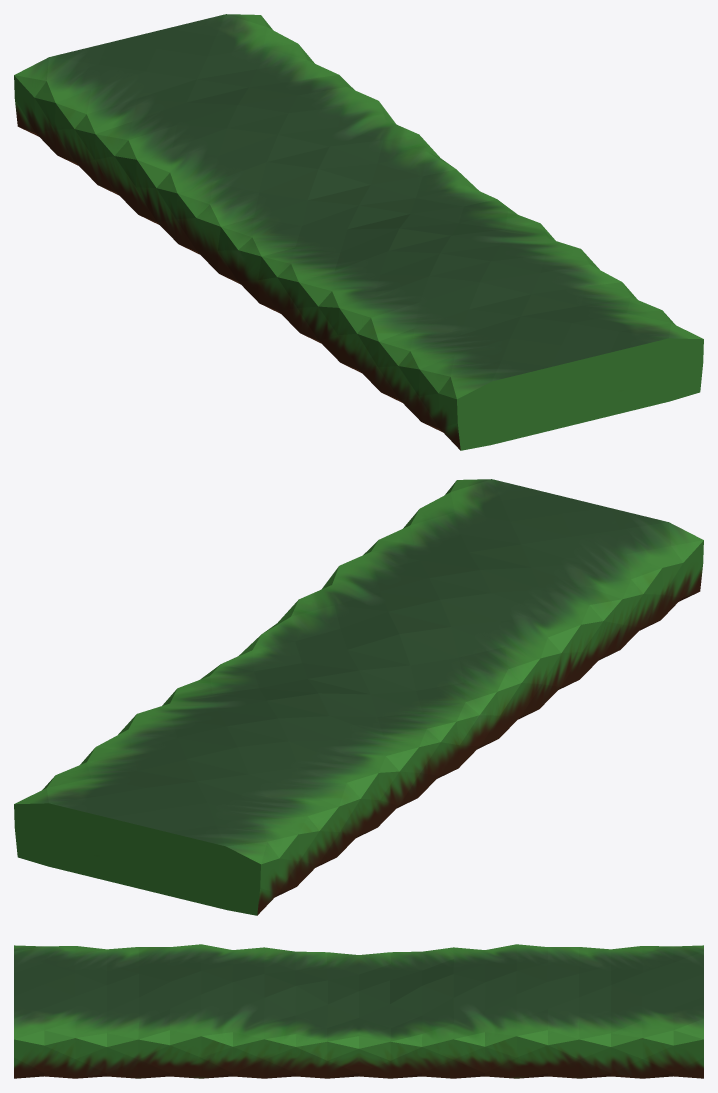
File: Ground.fbx
3 renders of one model, top to bottom at view 1: azimuth 30°, elevation 25°; view 2: azimuth 150°, elevation 25°; view 3: azimuth 270°, elevation 25°, orthographic. The views are drawn at different scales.
Parts seen in each view (by area): view 1: Cube; view 2: Cube; view 3: Cube.
Part boxes in pixels (x1=…): Cube: x1=14, y1=14, x2=703, y2=450; Cube: x1=14, y1=479, x2=703, y2=915; Cube: x1=14, y1=944, x2=703, y2=1078.
Bounding box in the file's own units: 510 × 133 × 1584.
